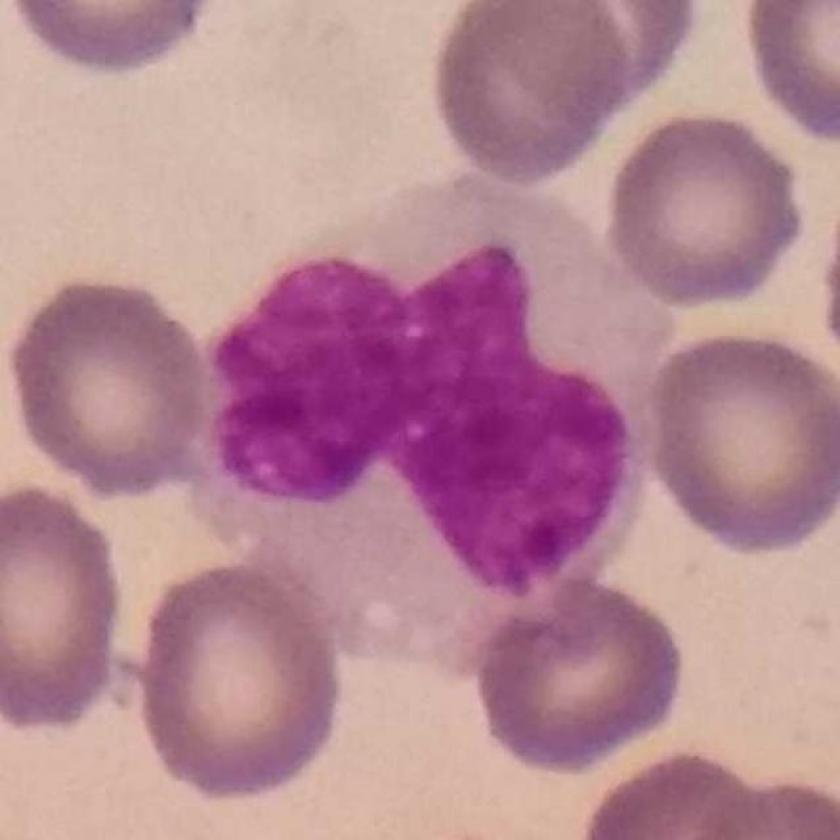monocyte: (188, 164, 676, 669)
